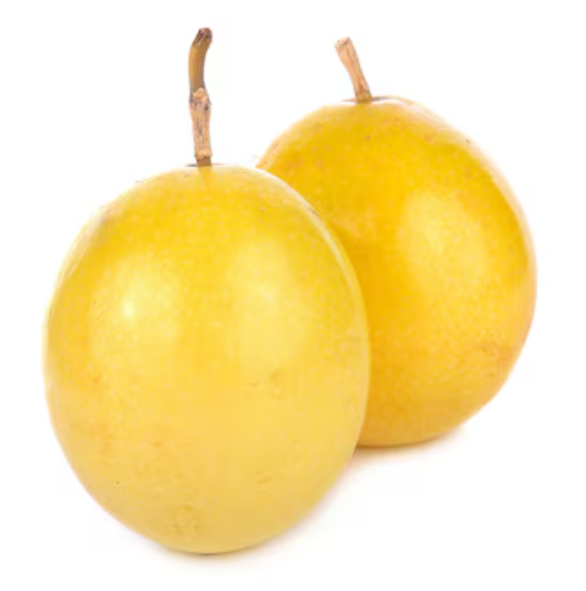maracuya: (35, 150, 383, 569), (255, 82, 548, 473)
